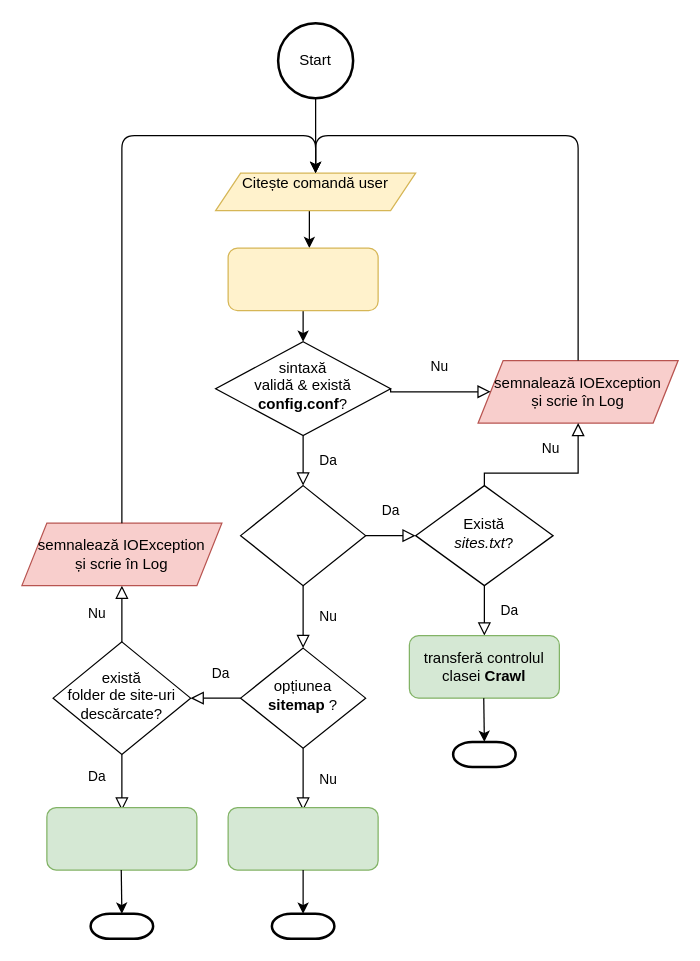
The diagram is 700 pixels wide and 961 high, and some of its shapes have lost their labels. The shapes that lost their labels are listed below. From the top down, each one's centre as x and y in pixels, then its label:
At point 302,279: "Împarte comanda în tokeni parseCommand()".
At point 302,535: "opțiunea crawl ?".
At point 121,838: "transferă controlul clasei Sitemap".
At point 302,838: "transferă controlul unei clase Filter".
